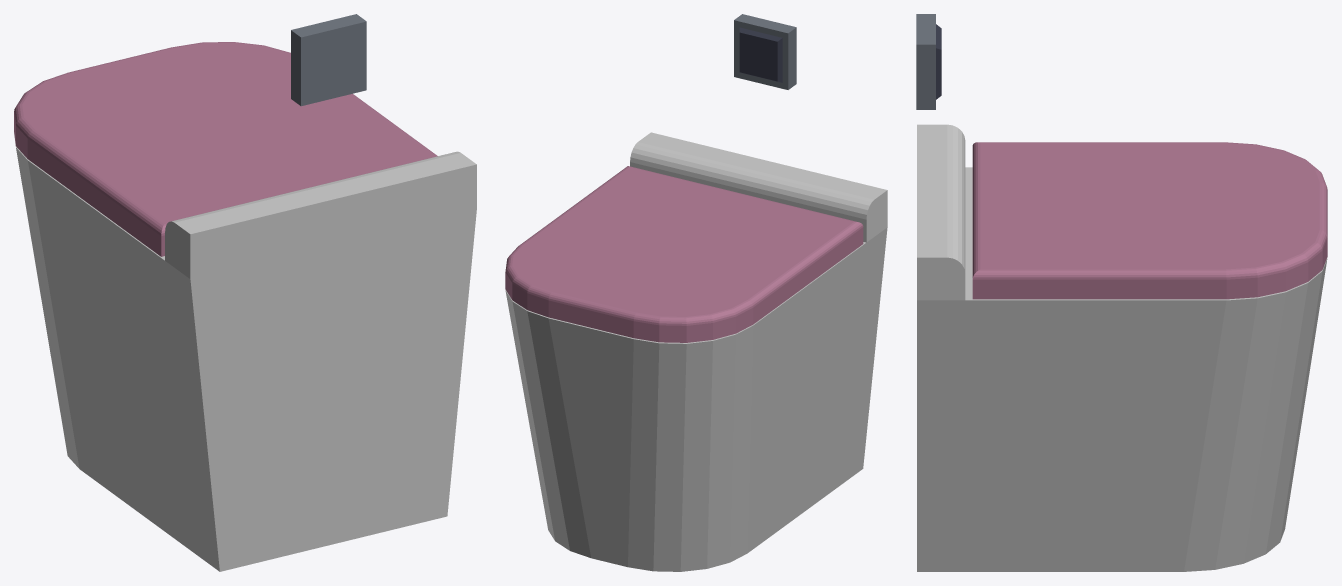
The model's file is pytty_GJ22.fbx.
The picture shows the model from 3 angles, left to right: view 1: azimuth 30°, elevation 25°; view 2: azimuth 150°, elevation 25°; view 3: azimuth 270°, elevation 25°; orthographic projection. The views are drawn at different scales.
Parts seen in each view (by area): view 1: Pytty, Kansi, Nappi; view 2: Pytty, Kansi, Nappi; view 3: Pytty, Kansi, Nappi.
Boxes of the visible parts, bbox=[...] form: Pytty: bbox=[14, 133, 476, 571]; Kansi: bbox=[14, 42, 437, 256]; Nappi: bbox=[291, 14, 366, 106]; Pytty: bbox=[505, 132, 887, 571]; Kansi: bbox=[505, 166, 863, 342]; Nappi: bbox=[734, 14, 796, 89]; Pytty: bbox=[917, 124, 1327, 571]; Kansi: bbox=[972, 142, 1327, 299]; Nappi: bbox=[916, 14, 941, 109].
Size of the model in its own units: 50 by 85.88 by 65.3.
